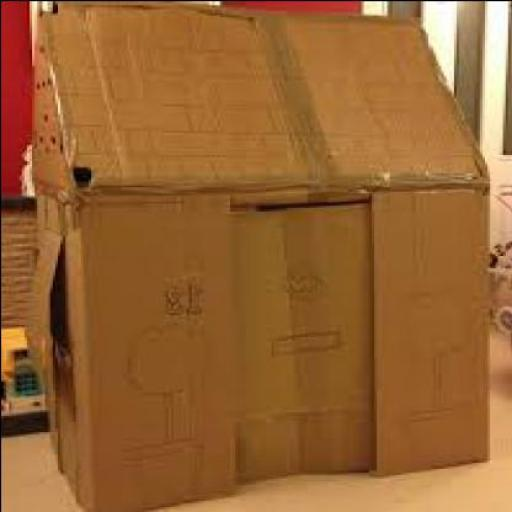cardboard: (32, 1, 495, 511), (2, 202, 47, 326), (2, 326, 52, 435)
